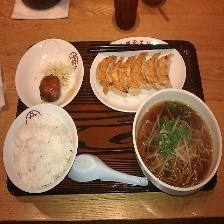rice: (5, 115, 76, 188)
